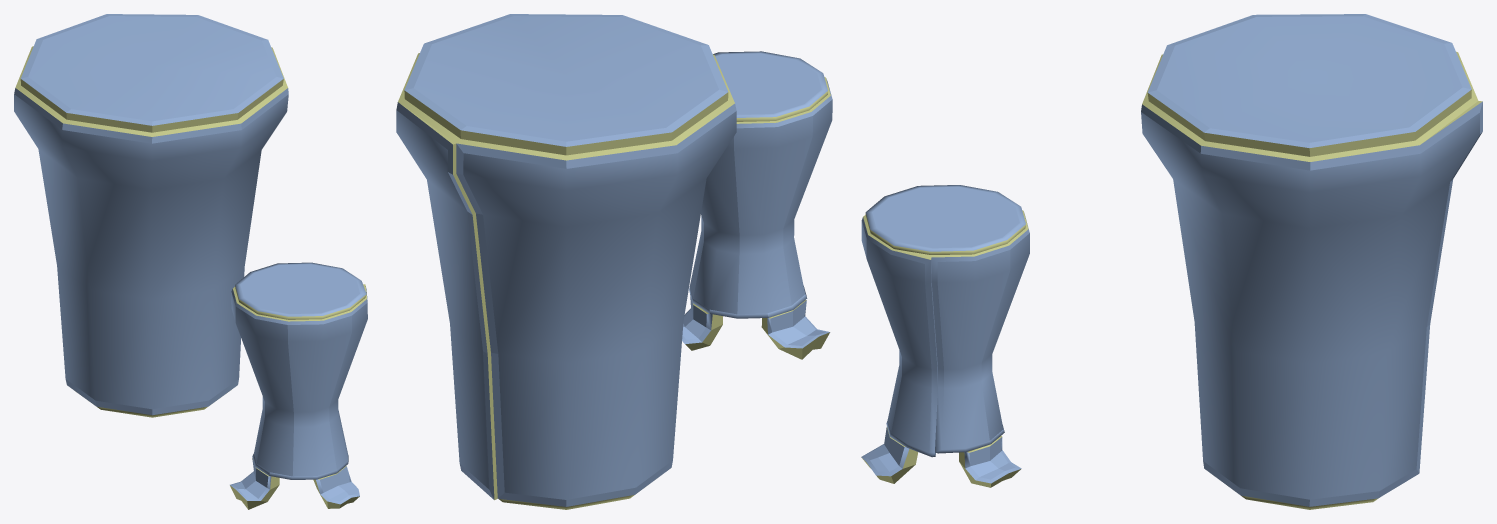
The model's file is mesaysilla.fbx.
3 views of the same model, side by side, from view 1: azimuth 30°, elevation 25°; view 2: azimuth 150°, elevation 25°; view 3: azimuth 270°, elevation 25° (orthographic). The views are drawn at different scales.
Parts seen in each view (by area): view 1: Table_low, Chair_low; view 2: Table_low, Chair_low; view 3: Table_low, Chair_low.
Part boxes in pixels (bbox=[...]): Table_low: bbox=[14, 14, 288, 417]; Chair_low: bbox=[230, 262, 367, 509]; Table_low: bbox=[396, 14, 736, 509]; Chair_low: bbox=[682, 51, 832, 359]; Table_low: bbox=[1141, 14, 1482, 509]; Chair_low: bbox=[861, 185, 1029, 487].
Size of the model in its own units: 63.57 by 82.86 by 118.
